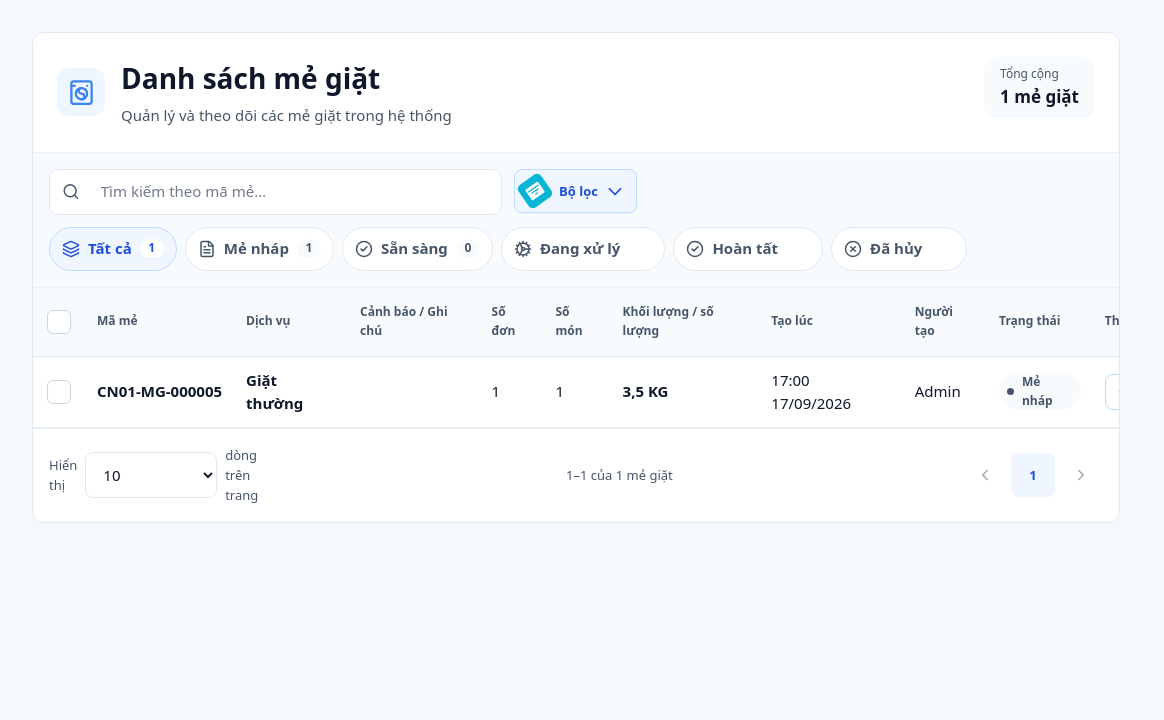
Test: Wash batch operational UI › supports current-page selection without exposing unsupported bulk mutations
Click the checkbox named "Chọn CN01-MG-000005": (59, 392) [47,380,71,404]
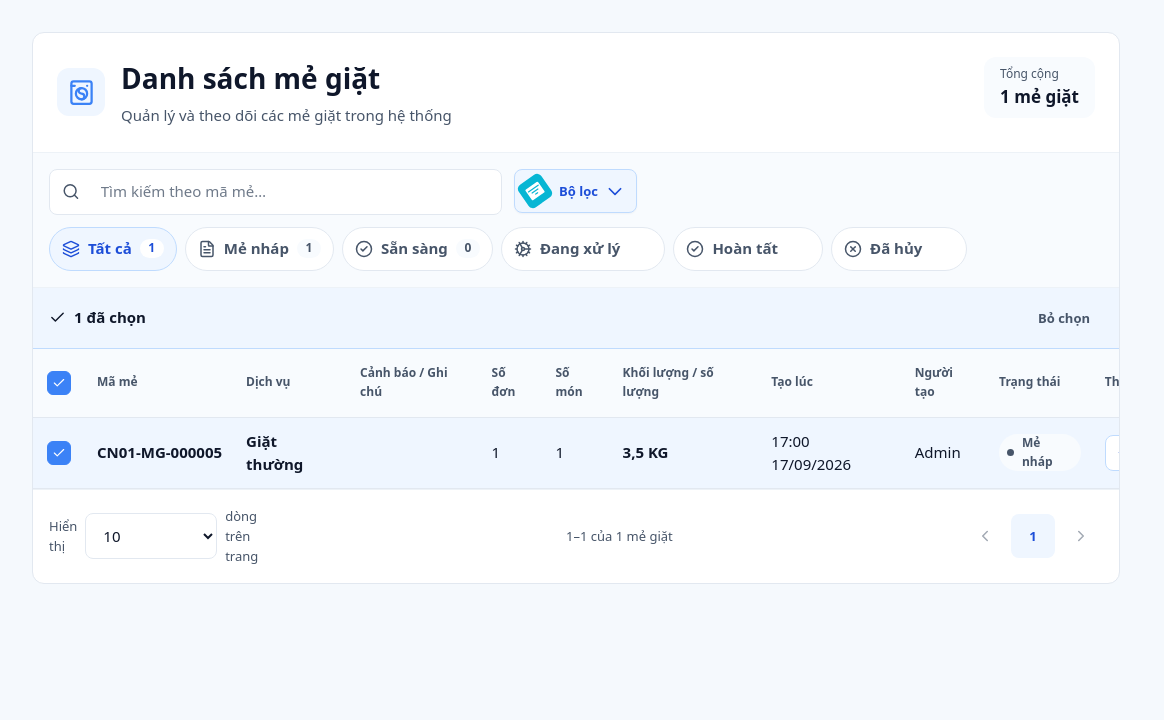
Check: the element named "Thao tác với 1 mẻ giặt đã chọn" is shown, box [33,288,1119,349]
